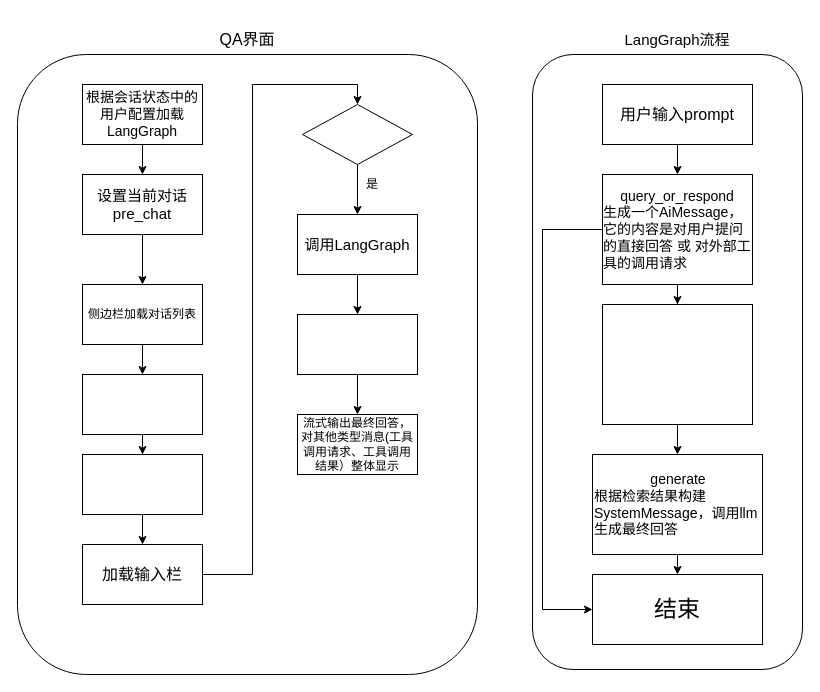
Some shapes in this 820 by 692 pixel diagram are drawn without their labels. The centre of each missing label's shape, as x and y in pixels:
ToolNode 根据前一步的工具调用请求调用对应工具（目前只提供了retrieve_tool)，并返回工具调用结果ToolMessage: pixel 677 364
保存本次返回消息: pixel 357 344
加载pre_chat的历史消息到会话状态中: pixel 142 404
是否发送提问: pixel 357 134
显示pre_chat的历史消息: pixel 142 484
